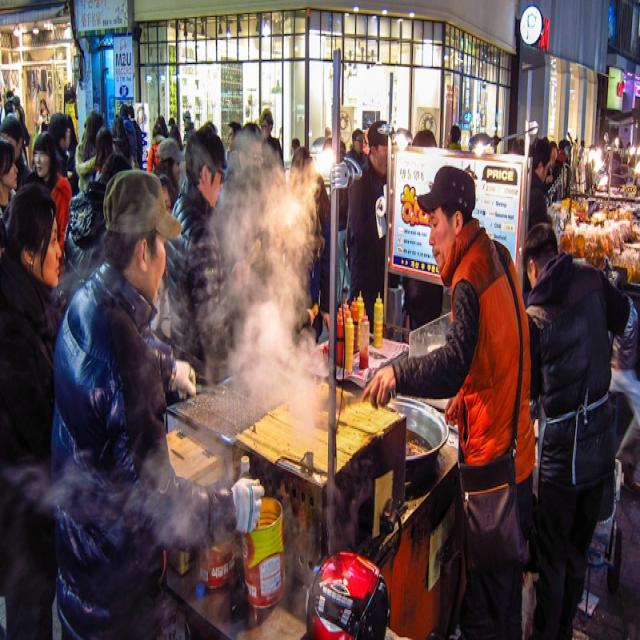body: (38, 161, 272, 639), (361, 164, 535, 638), (510, 212, 634, 638), (0, 181, 72, 640), (163, 121, 251, 386), (0, 76, 242, 162), (421, 117, 634, 208), (263, 131, 332, 328), (345, 118, 396, 335), (62, 148, 130, 304), (32, 128, 74, 285), (118, 102, 138, 170), (127, 102, 144, 170), (343, 124, 369, 160), (260, 107, 274, 131)
